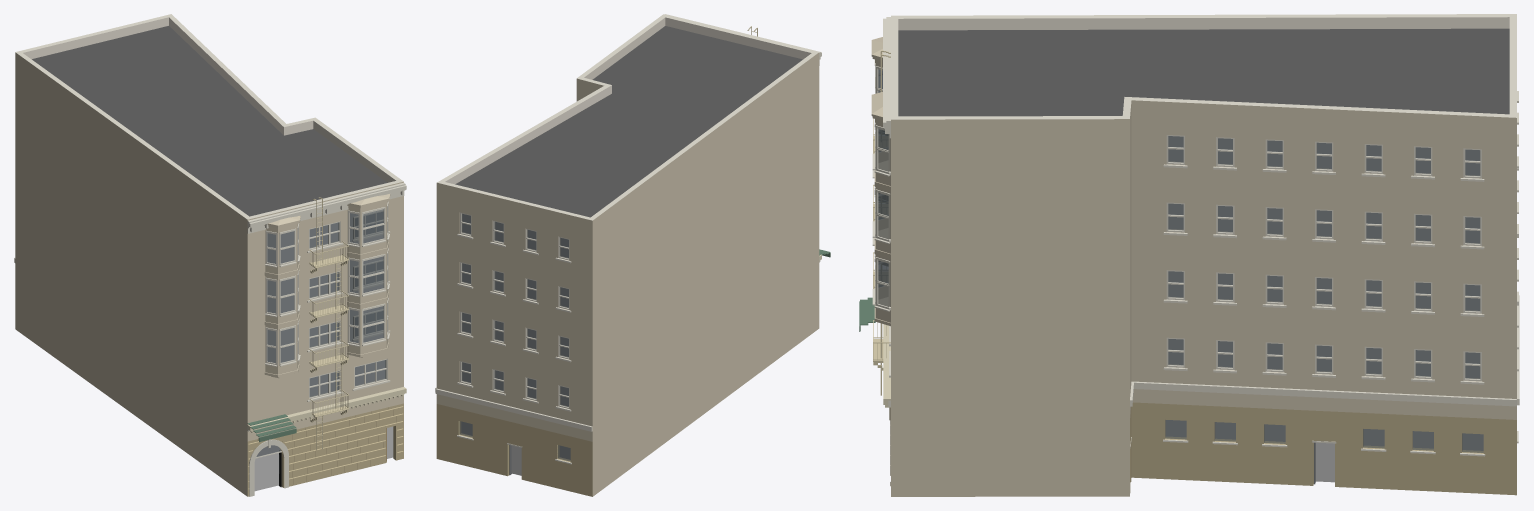
File: exterior.glb
The picture shows the model from 3 angles, left to right: view 1: azimuth 30°, elevation 25°; view 2: azimuth 150°, elevation 25°; view 3: azimuth 270°, elevation 25°; orthographic projection. The views are drawn at different scales.
Visible parts, largest first — view 1: shell, roof, bay-glazing-hyb, shadow-proxy, bay-windows-hyb, glazing, fire-escape-ladder, trim, frames, hyD-rubble-5, hand-ornament, hyC-arches-5 (+1 smaller); view 2: shell, roof, glazing, shadow-proxy, frames, trim; view 3: shell, roof, glazing, shadow-proxy, trim, frames, bay-glazing-hyb, bay-windows-hyb, fire-escape-ladder.
Boxes of the visible parts, x1,y1,x2,y2 form: shell: (15,14,403,496); roof: (32,26,387,216); bay-glazing-hyb: (265,201,389,366); shadow-proxy: (254,211,393,491); bay-windows-hyb: (264,194,390,378); glazing: (256,212,385,473); fire-escape-ladder: (309,197,348,450); trim: (14,182,406,431); frames: (309,210,387,398); hyD-rubble-5: (248,406,403,489); hand-ornament: (247,387,406,433); hyC-arches-5: (249,439,288,496); shell: (436,14,819,496); roof: (455,26,802,217); glazing: (459,214,570,461); shadow-proxy: (461,214,570,475); frames: (460,212,569,408); trim: (435,14,821,464); shell: (891,14,1516,496); roof: (898,28,1509,116); glazing: (1165,136,1483,452); shadow-proxy: (1166,136,1483,482); trim: (883,17,1519,456); frames: (1166,135,1481,381); bay-glazing-hyb: (872,59,890,311); bay-windows-hyb: (871,37,890,326); fire-escape-ladder: (873,50,890,395).
Bounding box in the file's own units: 11.43 × 19.47 × 30.2.
